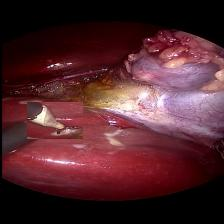Grasper: (204, 134, 224, 162)
Hook: (26, 102, 82, 139)
